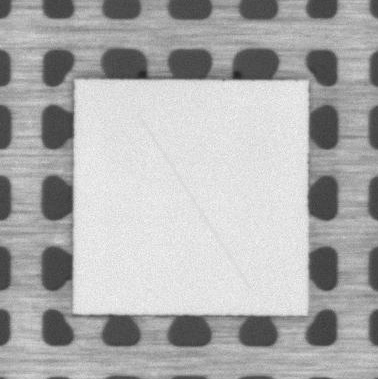DIE_CRACK: (138, 114, 250, 290)
